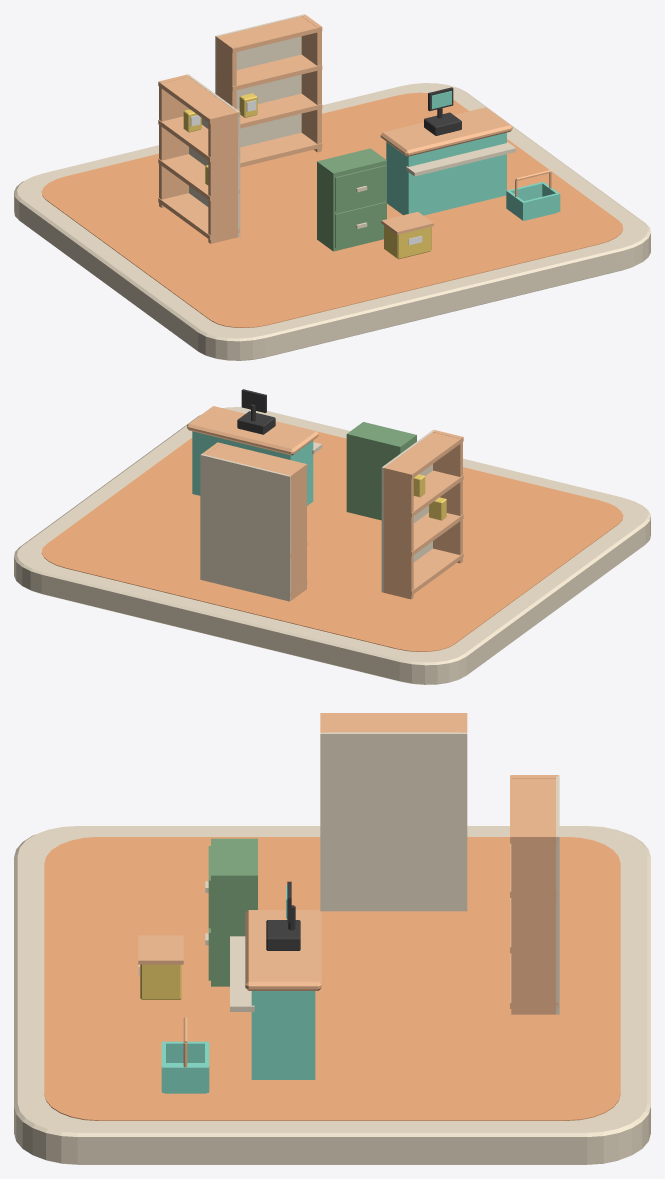
File: room.fbx
The picture shows the model from 3 angles, top to bottom: view 1: azimuth 30°, elevation 25°; view 2: azimuth 150°, elevation 25°; view 3: azimuth 270°, elevation 25°; orthographic projection. The views are drawn at different scales.
Parts seen in each view (by area): view 1: COM-02 Floor Surface, COM-01 Rounded Base Direct, Counter body, Cabinet, Back.001, Side.001, Countertop, Side, Side.003, Shelf.007, Shelf.006, Shelf.003 (+12 smaller); view 2: COM-02 Floor Surface, COM-01 Rounded Base Direct, Back.001, Cabinet, Side, Countertop, Side.002, Side.001, Counter body, Shelf.003, Shelf.007, Shelf (+5 smaller); view 3: COM-02 Floor Surface, COM-01 Rounded Base Direct, Back, Side.003, Counter body, Cabinet, Countertop, Shelf.007, Shelf.003, Box, Lid, Visitor shelf (+4 smaller).
Part boxes in pixels (box(x1,y1,x2,y2)): COM-02 Floor Surface: box(41, 92, 622, 327); COM-01 Rounded Base Direct: box(14, 83, 650, 360); Counter body: box(386, 132, 506, 215); Cabinet: box(317, 148, 386, 251); Back.001: box(215, 14, 305, 147); Side.001: box(208, 110, 238, 243); Countertop: box(380, 107, 512, 156); Side: box(159, 75, 189, 207); Side.003: box(301, 15, 321, 152); Shelf.007: box(216, 16, 322, 52); Shelf.006: box(215, 54, 322, 91); Shelf.003: box(158, 77, 239, 123); COM-02 Floor Surface: box(42, 431, 623, 651); COM-01 Rounded Base Direct: box(14, 407, 650, 684); Back.001: box(200, 454, 291, 601); Cabinet: box(346, 422, 416, 520); Side: box(383, 466, 413, 599); Countertop: box(187, 406, 318, 455); Side.002: box(286, 463, 306, 600); Side.001: box(432, 430, 462, 563); Counter body: box(192, 431, 313, 505); Shelf.003: box(384, 432, 463, 479); Shelf.007: box(207, 442, 307, 474); Shelf: box(384, 548, 463, 595); COM-02 Floor Surface: box(44, 837, 620, 1120); COM-01 Rounded Base Direct: box(14, 826, 650, 1164); Back: box(320, 732, 467, 911); Side.003: box(511, 834, 557, 1014); Counter body: box(251, 991, 315, 1079); Cabinet: box(205, 838, 257, 986); Countertop: box(245, 910, 321, 990); Shelf.007: box(510, 775, 558, 843); Shelf.003: box(320, 713, 466, 732); Box: box(140, 964, 181, 999); Lid: box(138, 935, 183, 964); Visitor shelf: box(230, 936, 254, 1011).
Size of the model in its own units: 600 by 190 by 520.
